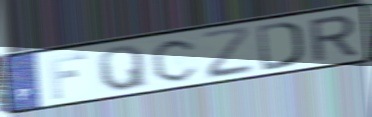C: (150, 37, 201, 84)
D: (255, 19, 305, 73)
F: (47, 50, 89, 101)
Q: (95, 43, 151, 93)
R: (307, 13, 360, 64)
Z: (199, 23, 258, 81)
